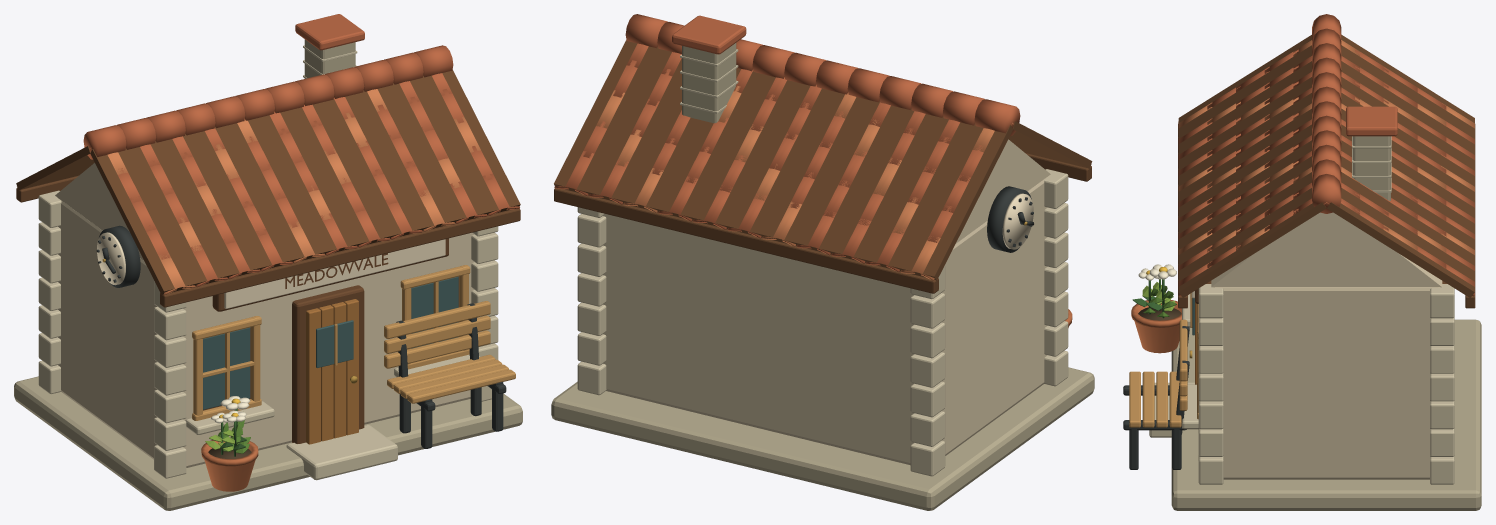
Rendered from 06_station_building.glb.
The picture shows the model from 3 angles, left to right: view 1: azimuth 30°, elevation 25°; view 2: azimuth 150°, elevation 25°; view 3: azimuth 270°, elevation 25°; orthographic projection. The views are drawn at different scales.
Parts seen in each view (by area): view 1: Roof underlay, Plaster walls, Foundation, Eave fascia, Door surround, Door step, Station sign, Window glass, Gable walls, Door plank, Terracotta pot.002, Chimney cap (+51 smaller); view 2: Plaster walls, Roof underlay.001, Foundation, Eave fascia.001, Chimney, Gable walls, Chimney cap, Roof underlay, Clock dial, Ridge tile, Clock casing, Corner masonry.007 (+27 smaller); view 3: Plaster walls, Roof underlay, Foundation, Roof underlay.001, Gable walls, Chimney, Chimney cap, Terracotta pot.002, Ridge tile.011, Corner masonry.020, Corner masonry.027, Corner masonry.017 (+30 smaller).
Boxes of the visible parts, <box> form: Roof underlay: <box>90,70,520,295</box>; Plaster walls: <box>58,198,474,467</box>; Foundation: <box>14,376,522,510</box>; Eave fascia: <box>160,208,520,307</box>; Door surround: <box>292,285,364,443</box>; Door step: <box>286,425,397,480</box>; Station sign: <box>224,239,445,308</box>; Window glass: <box>203,327,250,409</box>; Gable walls: <box>55,163,143,260</box>; Door plank: <box>306,308,320,444</box>; Terracotta pot.002: <box>201,440,258,491</box>; Chimney cap: <box>295,14,364,50</box>; Plaster walls: <box>603,177,1047,465</box>; Roof underlay.001: <box>554,40,1013,280</box>; Foundation: <box>551,367,1094,510</box>; Eave fascia.001: <box>554,188,938,293</box>; Chimney: <box>682,43,736,123</box>; Gable walls: <box>955,139,1050,243</box>; Chimney cap: <box>672,15,746,54</box>; Roof underlay: <box>1008,121,1092,168</box>; Clock dial: <box>1002,193,1033,249</box>; Ridge tile: <box>974,99,1020,136</box>; Clock casing: <box>987,186,1031,252</box>; Corner masonry.007: <box>910,440,945,476</box>; Plaster walls: <box>1213,287,1440,479</box>; Roof underlay: <box>1178,35,1326,297</box>; Foundation: <box>1171,319,1481,510</box>; Roof underlay.001: <box>1327,34,1474,297</box>; Gable walls: <box>1211,212,1442,287</box>; Chimney: <box>1352,136,1390,200</box>; Chimney cap: <box>1346,106,1397,136</box>; Terracotta pot.002: <box>1131,300,1181,353</box>; Ridge tile.011: <box>1312,174,1341,213</box>; Corner masonry.020: <box>1198,284,1223,318</box>; Corner masonry.027: <box>1430,284,1454,318</box>; Corner masonry.017: <box>1198,372,1223,401</box>.
Bounding box in the file's own units: 3.68 × 3.43 × 3.18.
